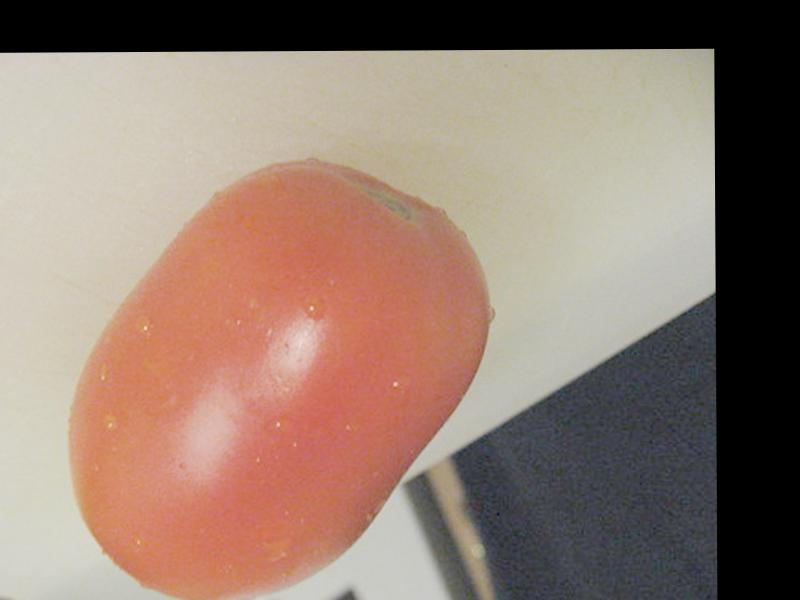Tomato: (68, 161, 492, 600)
